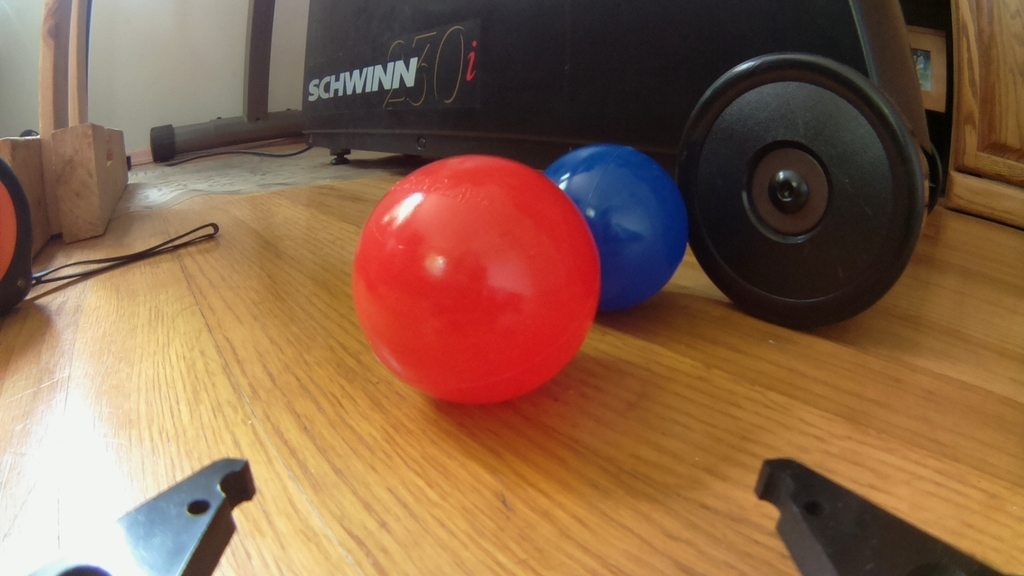ball: (548, 145, 695, 314)
